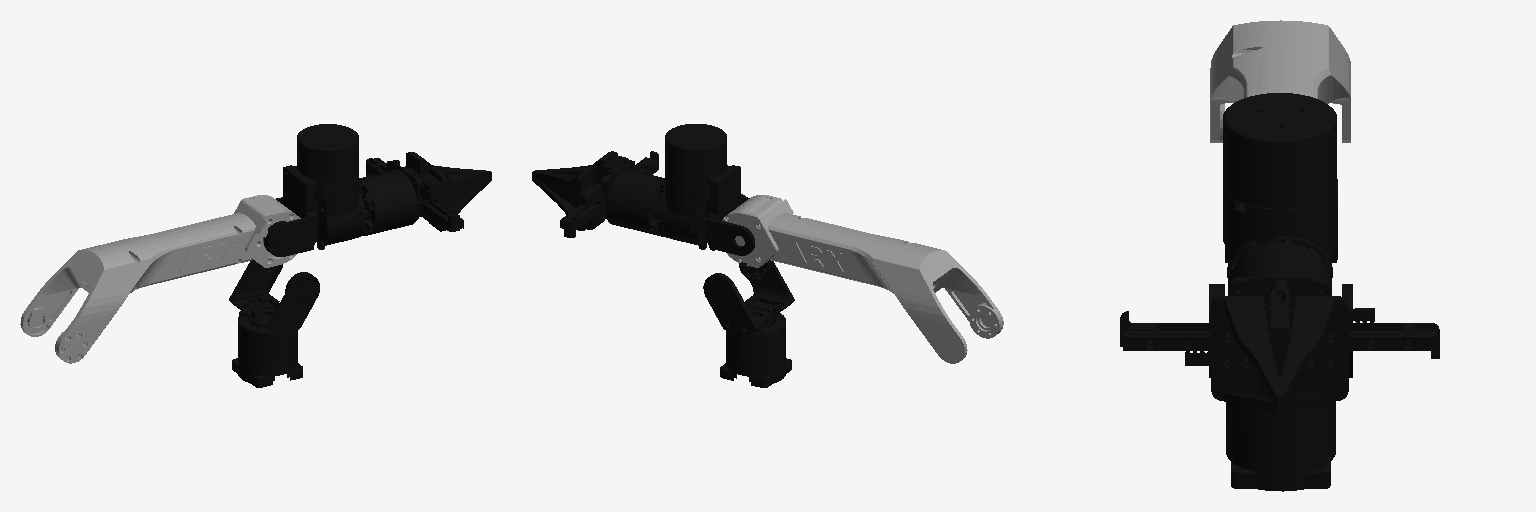
The robot description file, URDF, robot "X5":
<?xml version="1.0" encoding="utf-8"?>
<!-- Fixed Gripper Joint, add virtual tcp frame-->
<robot name="X5">
  <material name="black_mat">
    <color rgba="0.1 0.1 0.1 1" />
  </material>
  <material name="silver_mat">
    <color rgba="0.65 0.65 0.65 1" />
  </material>
  <link name="link0">
    <inertial>
      <origin xyz="-3.0001E-05 3.0589E-05 0.027324" rpy="0 0 0" />
      <mass value="0.43995" />
      <inertia ixx="0.00017" ixy="0.00000" ixz="0.00000" iyy="0.00017" iyz="0.00000" izz="0.00016" />
    </inertial>
    <visual>
      <origin xyz="0 0 0" rpy="0 0 0" />
      <geometry>
        <mesh filename="../meshes/base_link.obj" />
      </geometry>
      <material name="black_mat" />
    </visual>
    <collision>
      <origin xyz="0 0 0.03" rpy="0 0 0" />
      <geometry>
        <cylinder radius="0.03" length="0.06" />
      </geometry>
    </collision>
  </link>

  <link name="link1">
    <inertial>
      <origin xyz="0.0054231 -0.0080289 0.017086" rpy="0 0 0" />
      <mass value="0.066982" />
      <inertia ixx="0.00008" ixy="0.00000" ixz="0.00001" iyy="0.00003" iyz="0.00000" izz="0.00008" />
    </inertial>
    <visual>
      <origin xyz="0 0 0" rpy="0 0 0" />
      <geometry>
        <mesh filename="../meshes/link1.obj" />
      </geometry>
      <material name="black_mat" />
    </visual>
  </link>

  <joint name="joint1" type="revolute">
    <origin xyz="0 0 0.0605" rpy="0 0 0" />
    <parent link="link0" />
    <child link="link1" />
    <axis xyz="0 0 1" />
    <limit lower="-3.14" upper="2.6" effort="100" velocity="1000" />
  </joint>

  <link name="link2">
    <inertial>
      <origin xyz="-0.13237 0.0020852 0.00010549" rpy="0 0 0" />
      <mass value="1.0795" />
      <inertia ixx="0.00051" ixy="0.00001" ixz="-0.00004" iyy="0.01599" iyz="0.00000" izz="0.01605" />
    </inertial>
    <visual>
      <origin xyz="0 0 0" rpy="0 0 0" />
      <geometry>
        <mesh filename="../meshes/link2.obj" />
      </geometry>
      <material name="black_mat" />
    </visual>
    <collision>
      <origin xyz="0 0 0" rpy="1.57 0 0" />
      <geometry>
        <cylinder radius="0.03" length="0.06" />
      </geometry>
    </collision>
    <collision>
      <origin xyz="-0.13 0 0" rpy="0 0 0" />
      <geometry>
        <box size="0.22 0.06 0.05" />
      </geometry>
    </collision>
    <collision>
      <origin xyz="-0.26 0 0" rpy="1.57 0 0" />
      <geometry>
        <cylinder radius="0.03" length="0.06" />
      </geometry>
    </collision>
  </link>

  <joint name="joint2" type="revolute">
    <origin xyz="0.02 0 0.04" rpy="0 0 0" />
    <parent link="link1" />
    <child link="link2" />
    <axis xyz="0 1 0" />
    <limit lower="-0.1" upper="3.6" effort="100" velocity="1000" />
  </joint>

  <link name="link3">
    <inertial>
      <origin xyz="0.18531 0.00068376 -0.051638" rpy="0 0 0" />
      <mass value="0.54534" />
      <inertia ixx="0.00036" ixy="-0.00003" ixz="-0.00039" iyy="0.00423" iyz="0.00001" izz="0.00420" />
    </inertial>
    <visual>
      <origin xyz="0 0 0" rpy="0 0 0" />
      <geometry>
        <mesh filename="../meshes/link3.obj" />
      </geometry>
      <material name="silver_mat" />
    </visual>
    <collision>
      <origin xyz="0.245 0 -0.056" rpy="1.57 0 0" />
      <geometry>
        <cylinder radius="0.028" length="0.05" />
      </geometry>
    </collision>
    <collision>
      <origin xyz="0.135 0 -0.056" rpy="0 0 0" />
      <geometry>
        <box size="0.19 0.05 0.04" />
      </geometry>
    </collision>
  </link>

  <joint name="joint3" type="revolute">
    <origin xyz="-0.264 0 0" rpy="3.1416 0 0" />
    <parent link="link2" />
    <child link="link3" />
    <axis xyz="0 1 0" />
    <limit lower="0" upper="3.14" effort="100" velocity="1000" />
  </joint>

  <link name="link4">
    <inertial>
      <origin xyz="0.040231 0.0044807 -0.035335" rpy="0 0 0" />
      <mass value="0.11714" />
      <inertia ixx="0.00019" ixy="-0.00002" ixz="-0.00009" iyy="0.00023" iyz="0.00002" izz="0.00014" />
    </inertial>
    <visual>
      <origin xyz="0 0 0" rpy="0 0 0" />
      <geometry>
        <mesh filename="../meshes/link4.obj" />
      </geometry>
      <material name="black_mat" />
    </visual>
    <collision>
      <origin xyz="0.068 0 -0.066" rpy="0 0 0" />
      <geometry>
        <cylinder radius="0.03" length="0.04" />
      </geometry>
    </collision>
  </link>

  <joint name="joint4" type="revolute">
    <origin xyz="0.245 0 -0.056" rpy="0 0 0" />
    <parent link="link3" />
    <child link="link4" />
    <axis xyz="0 1 0" />
    <limit lower="-1.3" upper="1.3" effort="100" velocity="1000" />
  </joint>

  <link name="link5">
    <inertial>
      <origin xyz="0.003612 -1.5455E-05 0.055214" rpy="0 0 0" />
      <mass value="0.63488" />
      <inertia ixx="0.00083" ixy="0.00000" ixz="0.00007" iyy="0.00082" iyz="0.00000" izz="0.00026" />
    </inertial>
    <visual>
      <origin xyz="0 0 0" rpy="0 0 0" />
      <geometry>
        <mesh filename="../meshes/link5.obj" />
      </geometry>
      <material name="black_mat" />
    </visual>
    <collision>
      <origin xyz="0.005 0 0.086" rpy="0 1.57 0" />
      <geometry>
        <cylinder radius="0.03" length="0.04" />
      </geometry>
    </collision>
  </link>

  <joint name="joint5" type="revolute">
    <origin xyz="0.06775 0.0005 -0.0865" rpy="0 0 0" />
    <parent link="link4" />
    <child link="link5" />
    <axis xyz="0 0 1" />
    <limit lower="-1.57" upper="1.57" effort="100" velocity="1000" />
  </joint>

  <link name="link6">
    <inertial>
      <origin xyz="0.041697 2.4368E-05 0.00014464" rpy="0 0 0" />
      <mass value="0.44089" />
      <inertia ixx="0.00038" ixy="0.00000" ixz="0.00000" iyy="0.00028" iyz="0.00000" izz="0.00050" />
    </inertial>
    <visual>
      <origin xyz="0 0 0" rpy="0 0 0" />
      <geometry>
        <mesh filename="../meshes/link6.obj" />
      </geometry>
      <material name="black_mat" />
    </visual>
    <collision>
      <origin xyz="0.03 0 0" rpy="0 1.57 0" />
      <geometry>
        <cylinder radius="0.03" length="0.06" />
      </geometry>
    </collision>
  </link>

  <joint name="joint6" type="revolute">
    <origin xyz="0.02895 0 0.0865" rpy="-3.1416 0 0" />
    <parent link="link5" />
    <child link="link6" />
    <axis xyz="1 0 0" />
    <limit lower="-2.1" upper="2.1" effort="100" velocity="1000" />
  </joint>

  <link name="link7">
    <inertial>
      <origin xyz="-0.00035522 -0.007827 -0.0029883" rpy="0 0 0" />
      <mass value="0.064798" />
      <inertia ixx="0.00002" ixy="0.00000" ixz="0.00000" iyy="0.00003" iyz="0.00000" izz="0.00003" />
    </inertial>
    <visual>
      <origin xyz="0 0 0" rpy="0 0 0" />
      <geometry>
        <mesh filename="../meshes/link7.obj" />
      </geometry>
      <material name="black_mat" />
    </visual>
    <collision>
      <origin xyz="0.05 -0.023 0" rpy="0 0 0" />
      <geometry>
        <box size="0.04 0.004 0.0105" />
      </geometry>
    </collision>
    <collision>
      <origin xyz="0.015 -0.023 0" rpy="0 0 0" />
      <geometry>
        <box size="0.03 0.004 0.036" />
      </geometry>
    </collision>
  </link>

  <joint name="joint7" type="fixed">
    <origin xyz="0.08657 0.024896 -0.0002436" rpy="0 0 0" />
    <parent link="link6" />
    <child link="link7" />
  </joint>

  <link name="link8">
    <inertial>
      <origin xyz="-0.00035522 0.0078277 0.0024201" rpy="0 0 0" />
      <mass value="0.064798" />
      <inertia ixx="0.00002" ixy="0.00000" ixz="0.00000" iyy="0.00003" iyz="0.00000" izz="0.00003" />
    </inertial>
    <visual>
      <origin xyz="0 0 0" rpy="0 0 0" />
      <geometry>
        <mesh filename="../meshes/link8.obj" />
      </geometry>
      <material name="black_mat" />
    </visual>
    <collision>
      <origin xyz="0.05 0.023 0" rpy="0 0 0" />
      <geometry>
        <box size="0.04 0.004 0.0105" />
      </geometry>
    </collision>
    <collision>
      <origin xyz="0.015 0.023 0" rpy="0 0 0" />
      <geometry>
        <box size="0.03 0.004 0.036" />
      </geometry>
    </collision>
  </link>

  <joint name="joint8" type="fixed">
    <origin xyz="0.08657 -0.0249 -0.00024366" rpy="0 0 0" />
    <parent link="link6" />
    <child link="link8" />
  </joint>

  <link name="tcp">
  </link>

  <joint name="tcp_joint" type="fixed">
    <origin xyz="0.15 0.0 0.0" rpy="0 0 0" />
    <parent link="link6" />
    <child link="tcp" />
  </joint>

</robot>

--- Render facts (derived) ---
3 views of the same robot in one strip: view 1: azimuth 30°, elevation 25°; view 2: azimuth 150°, elevation 25°; view 3: azimuth 270°, elevation 25° (orthographic).
Model X5 with 10 links and 9 joints (6 revolute, 3 fixed), rooted at link0, posed every joint at zero.
Visible links, largest first — view 1: link3, link4, link6, link1, link0, link5, link8, link7; view 2: link3, link4, link6, link1, link0, link5, link7, link8; view 3: link4, link6, link3, link0, link8, link7, link5, link1.
Link boxes in pixels (left/top/right/bottom): link3: left=20, top=195, right=300, bottom=363; link4: left=264, top=124, right=358, bottom=256; link6: left=359, top=158, right=463, bottom=235; link1: left=229, top=260, right=319, bottom=334; link0: left=232, top=311, right=302, bottom=387; link5: left=314, top=177, right=366, bottom=249; link8: left=387, top=161, right=491, bottom=231; link7: left=402, top=152, right=488, bottom=228; link3: left=722, top=195, right=1003, bottom=363; link4: left=665, top=124, right=754, bottom=255; link6: left=560, top=151, right=664, bottom=237; link1: left=703, top=260, right=794, bottom=334; link0: left=720, top=313, right=791, bottom=387; link5: left=657, top=176, right=709, bottom=249; link7: left=532, top=166, right=605, bottom=230; link8: left=535, top=151, right=628, bottom=206; link4: left=1223, top=93, right=1337, bottom=262; link6: left=1120, top=238, right=1439, bottom=378; link3: left=1210, top=20, right=1350, bottom=142; link0: left=1226, top=402, right=1335, bottom=491; link8: left=1211, top=296, right=1374, bottom=413; link7: left=1185, top=296, right=1348, bottom=413; link5: left=1223, top=188, right=1336, bottom=280; link1: left=1209, top=284, right=1352, bottom=377.
Bounding box of the posed robot: 0.5168 × 0.174 × 0.243 m (x, y, z).
Meshes: 9 distinct files referenced, 8 mesh visuals loaded (8 OBJ); not drawn: 1 (reference not matched to a file when rendering).
